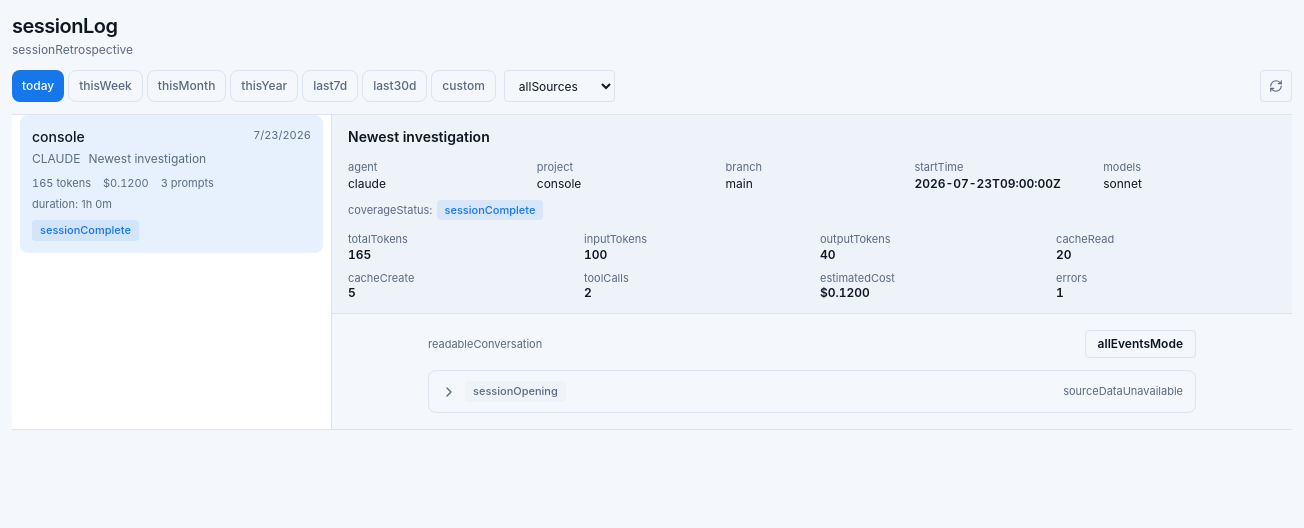
session retrospective center › shows the localized fallback for an invalid event timestamp
Step 1. Click the heading "sessionOpening sourceDataUnavailable" → (515, 392), box top-left (441, 381), bottom-right (1183, 402)
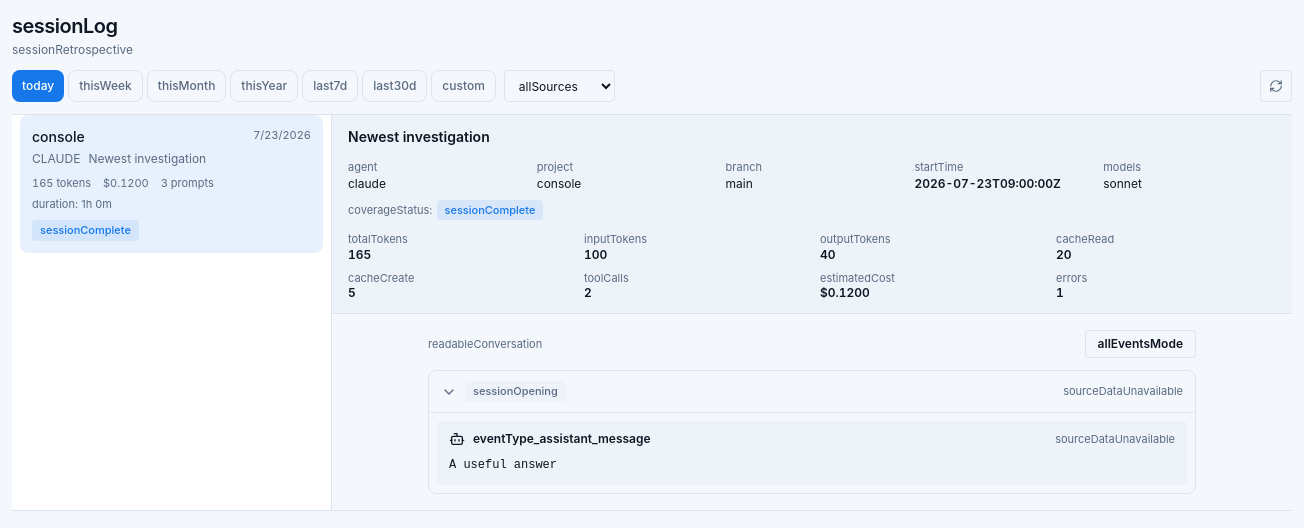
expect the text "sourceDataUnavailable" in the row of "eventType_assistant_message" is shown: met, box top-left (1055, 432), bottom-right (1175, 446)
